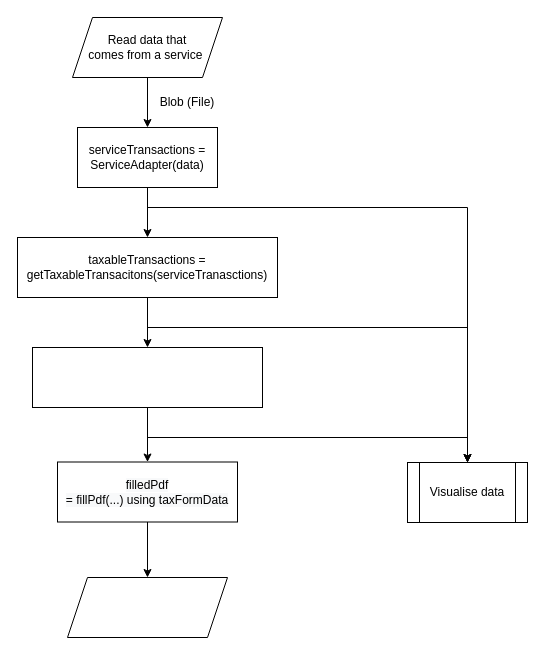
The diagram is 545 pixels wide and 655 high, and some of its shapes have lost their labels. The centre of each missing label's shape, as x and y in pixels:
"Output filled PDF" belongs at point 147,607.
"taxFormData = getTaxFormData(taxableTransactions)" belongs at point 147,377.
